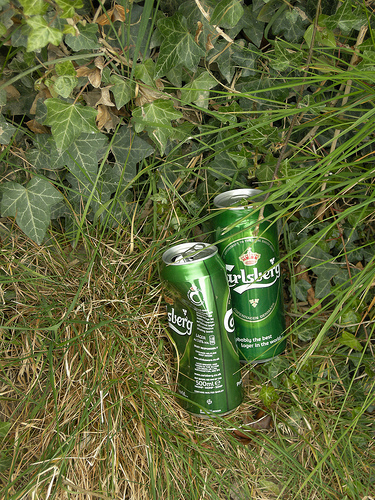litter: (158, 244, 240, 416), (213, 191, 286, 360)
